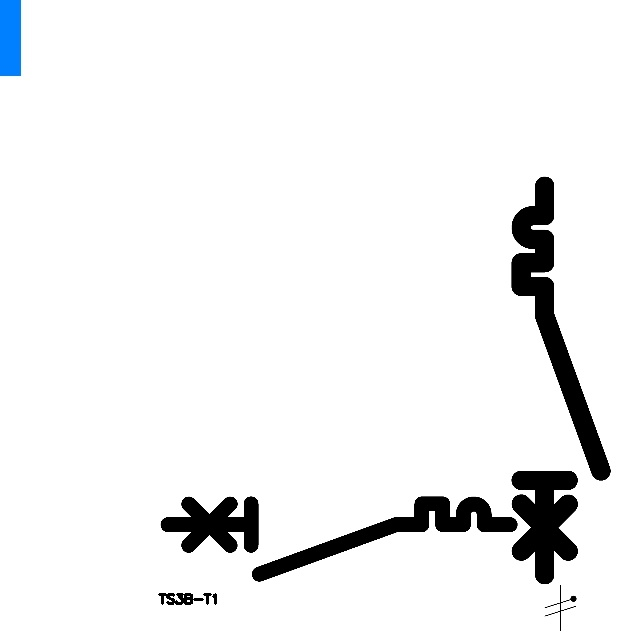interruptor_termomagnetico: (511, 176, 611, 585), (159, 495, 519, 583)
